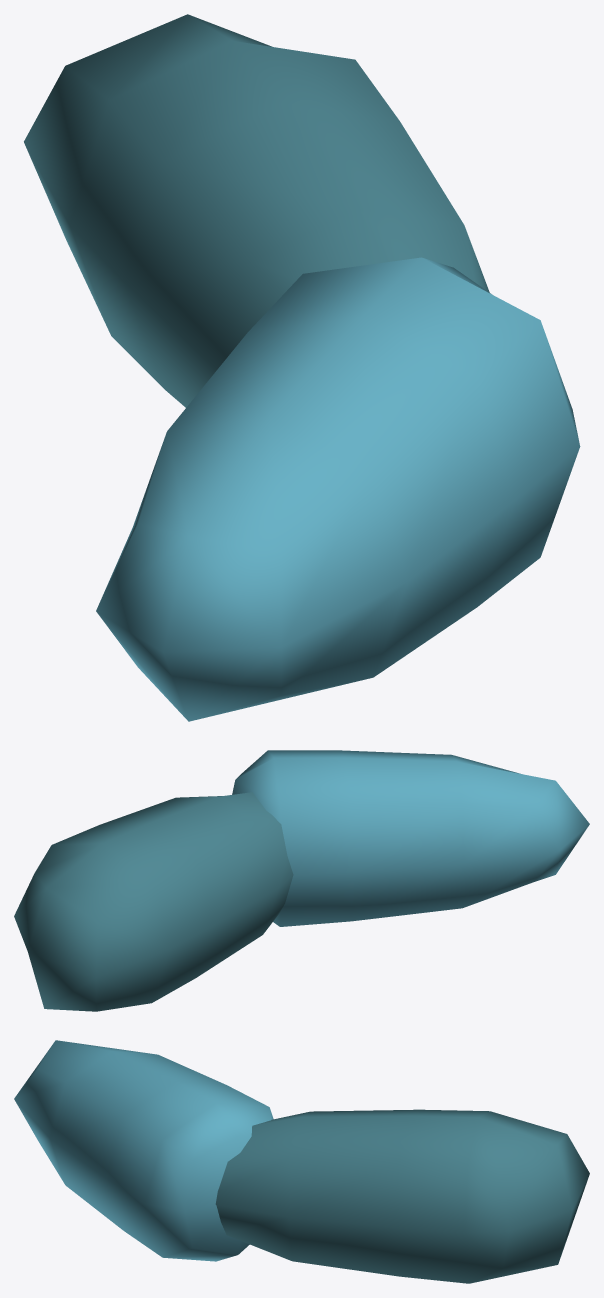
The model's file is Crab_2_Claw_3.fbx.
3 renders of one model, top to bottom at view 1: azimuth 30°, elevation 25°; view 2: azimuth 150°, elevation 25°; view 3: azimuth 270°, elevation 25°, orthographic. The views are drawn at different scales.
Parts seen in each view (by area): view 1: Crab_2_Claw_3; view 2: Crab_2_Claw_3; view 3: Crab_2_Claw_3.
Boxes of the visible parts, bbox=[...] form: Crab_2_Claw_3: bbox=[24, 14, 580, 721]; Crab_2_Claw_3: bbox=[14, 750, 589, 1011]; Crab_2_Claw_3: bbox=[14, 1040, 589, 1283].
Bounding box in the file's own units: 6.82 × 3.15 × 10.17.
